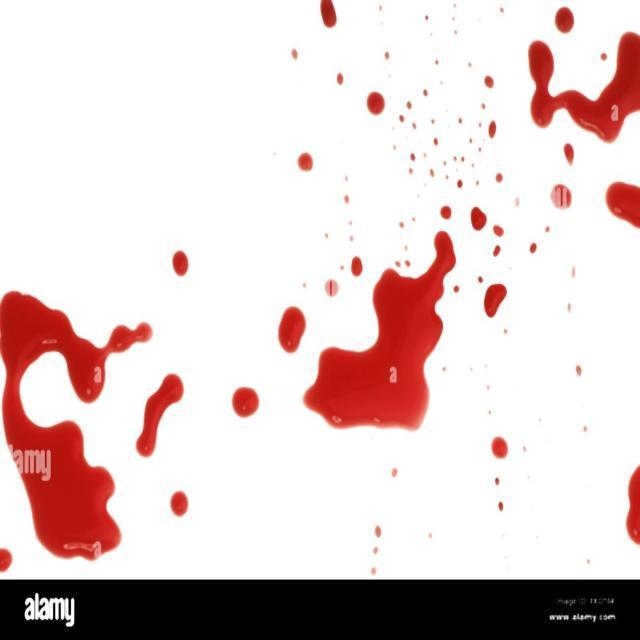flood: (0, 271, 219, 571), (262, 198, 464, 438), (514, 1, 640, 233)
